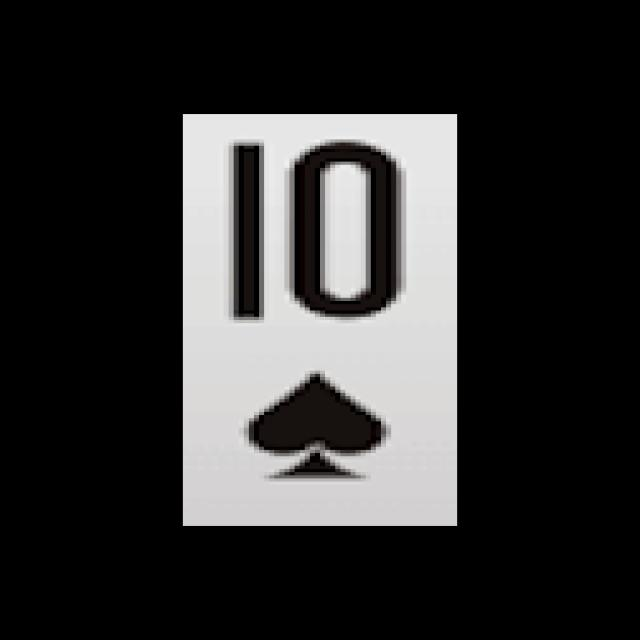10S: (203, 130, 423, 492)
